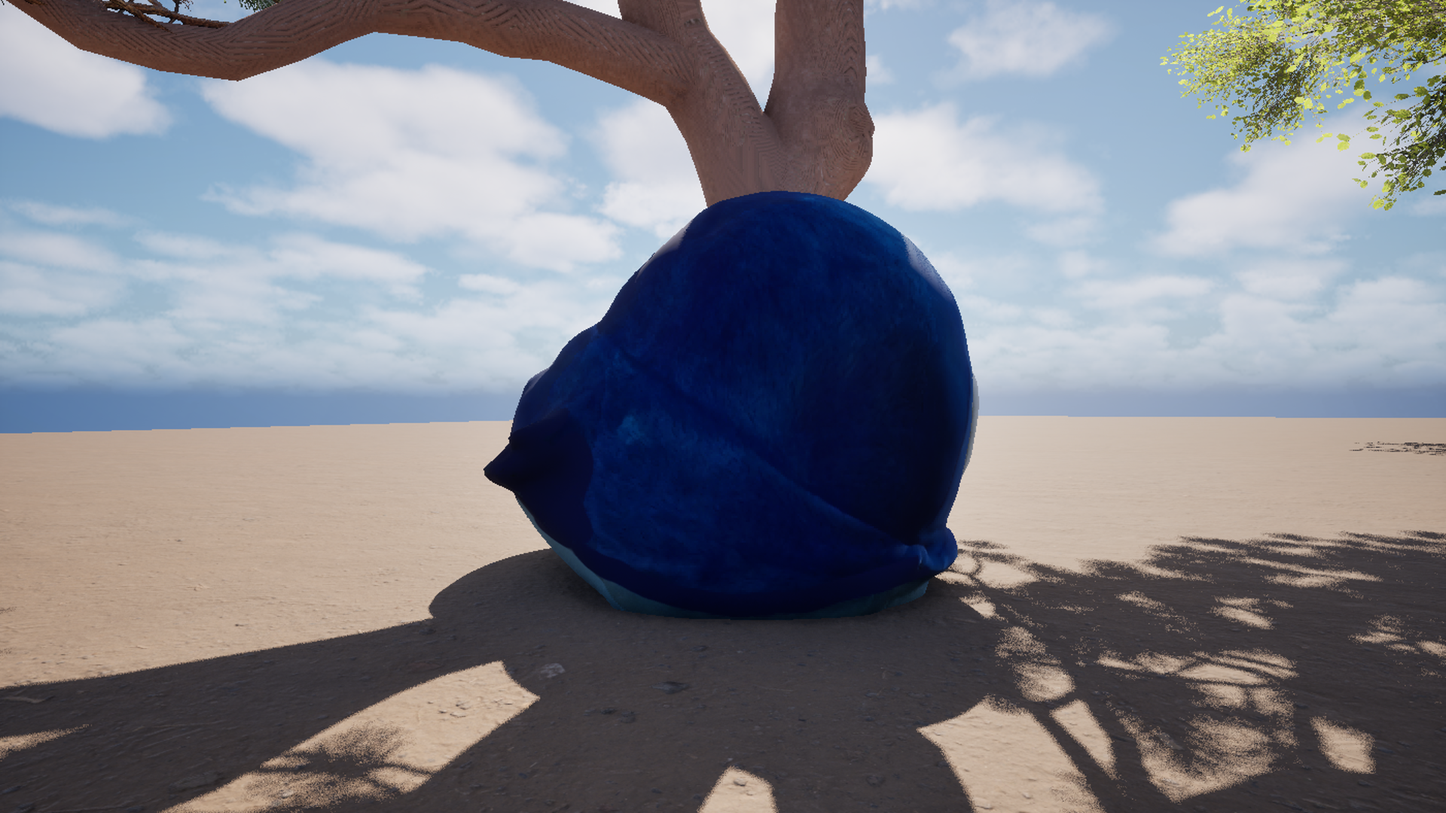Piplup: (146, 0, 1308, 813)
